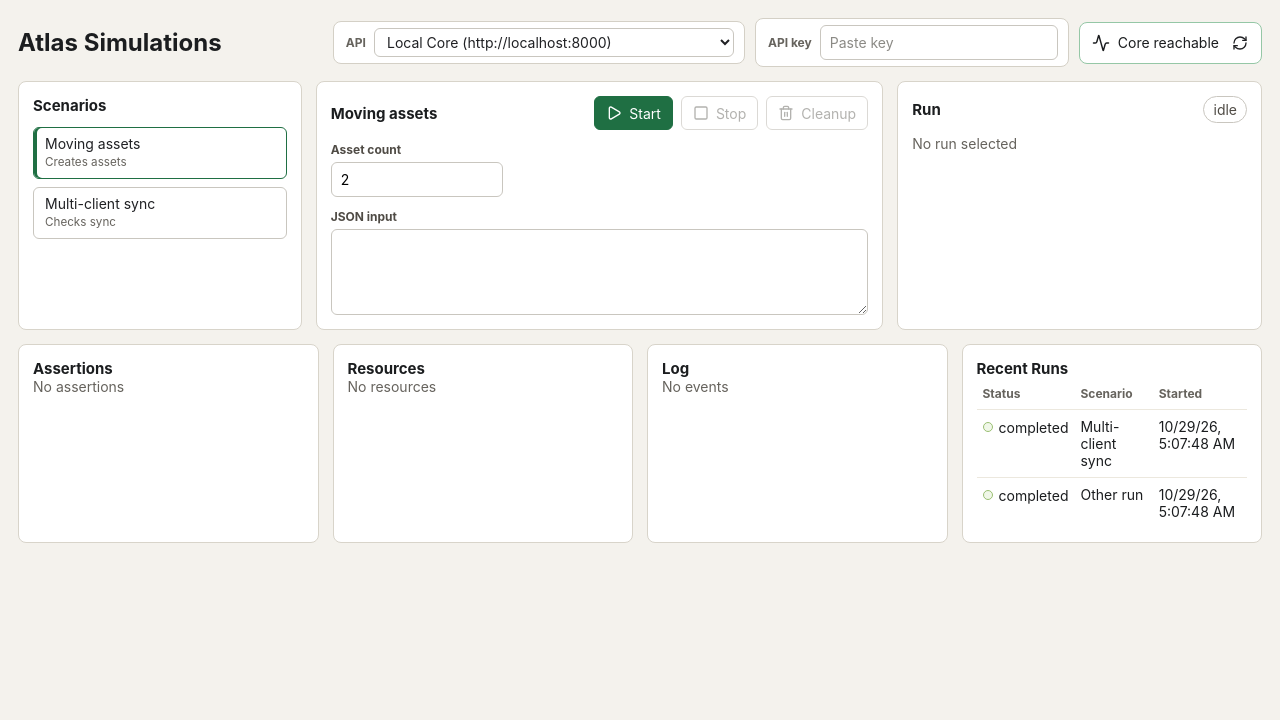
Test: App run lifecycle › keeps selected scenario and selected run synchronized
Click the button "Multi-client sync": [1114, 444] box [1080, 418, 1147, 469]
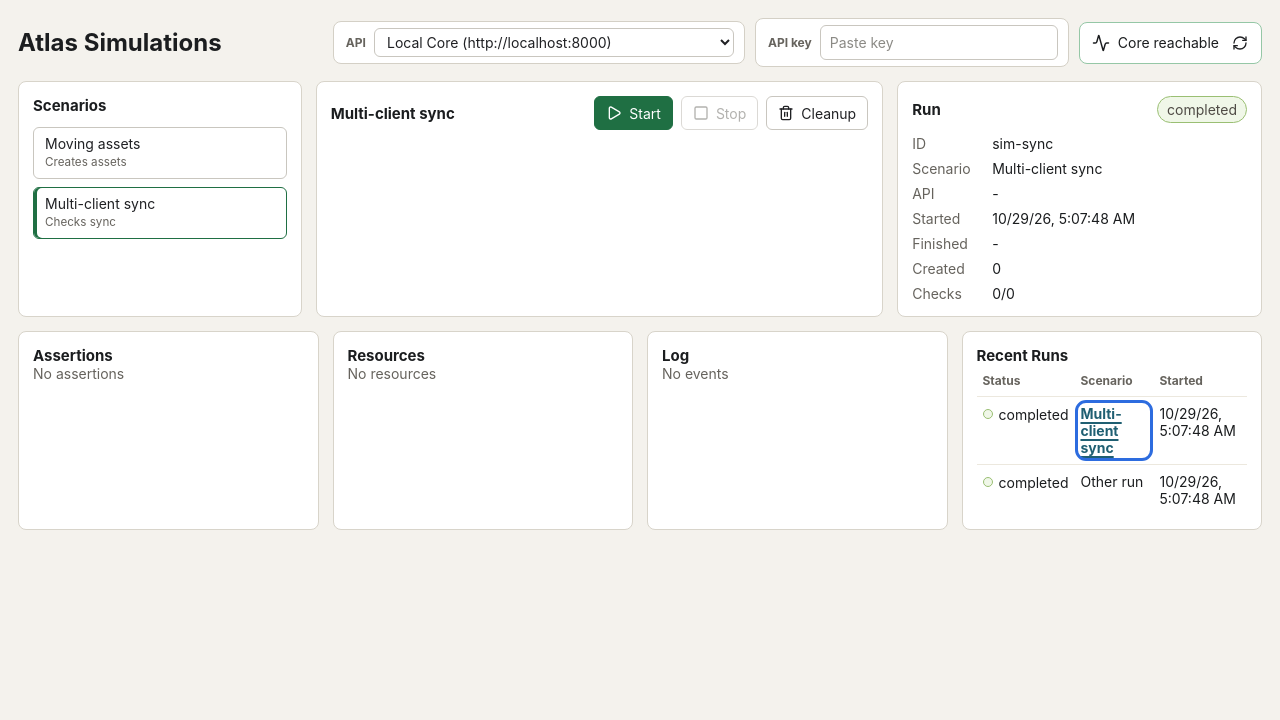
Expected: the button "Multi-client sync Checks sync" is pressed, [33, 187, 287, 239]
Expected: the button "Multi-client sync" is marked as current, [1080, 405, 1148, 456]
Click the button "Cleanup": [817, 113] box [766, 96, 868, 130]
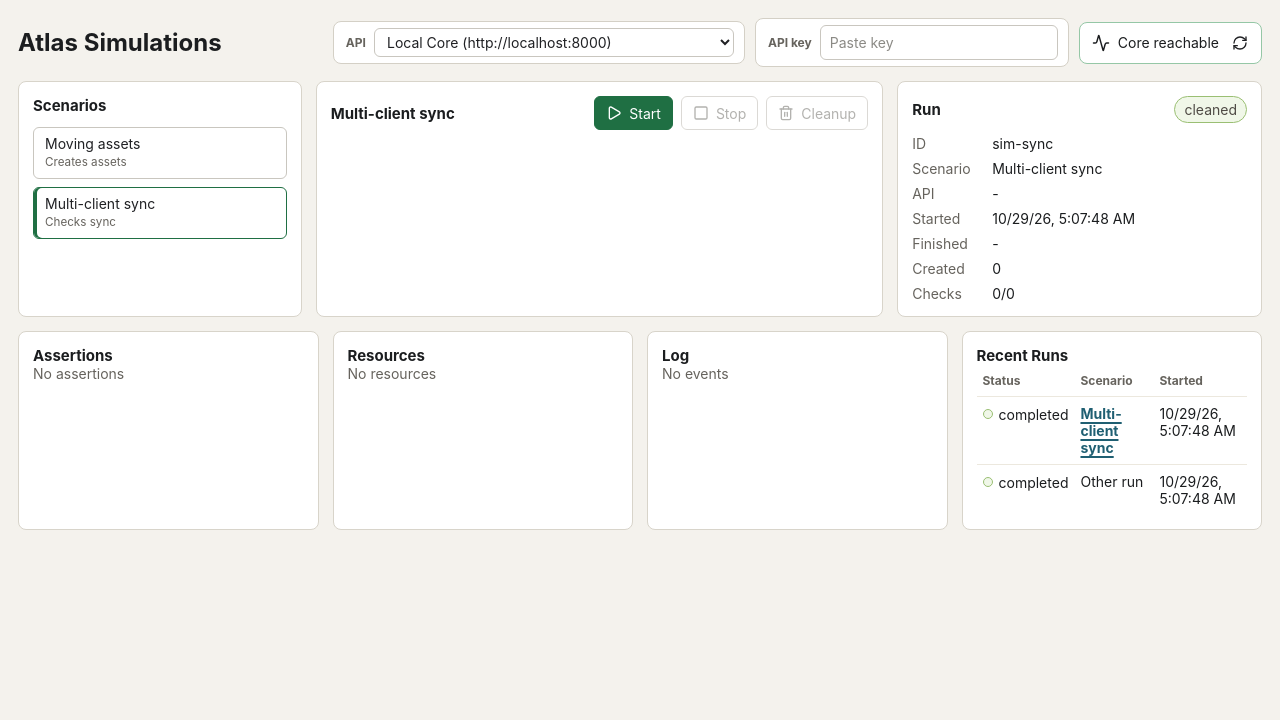
Expected: the text "cleaned" is shown, [1174, 96, 1247, 123]
